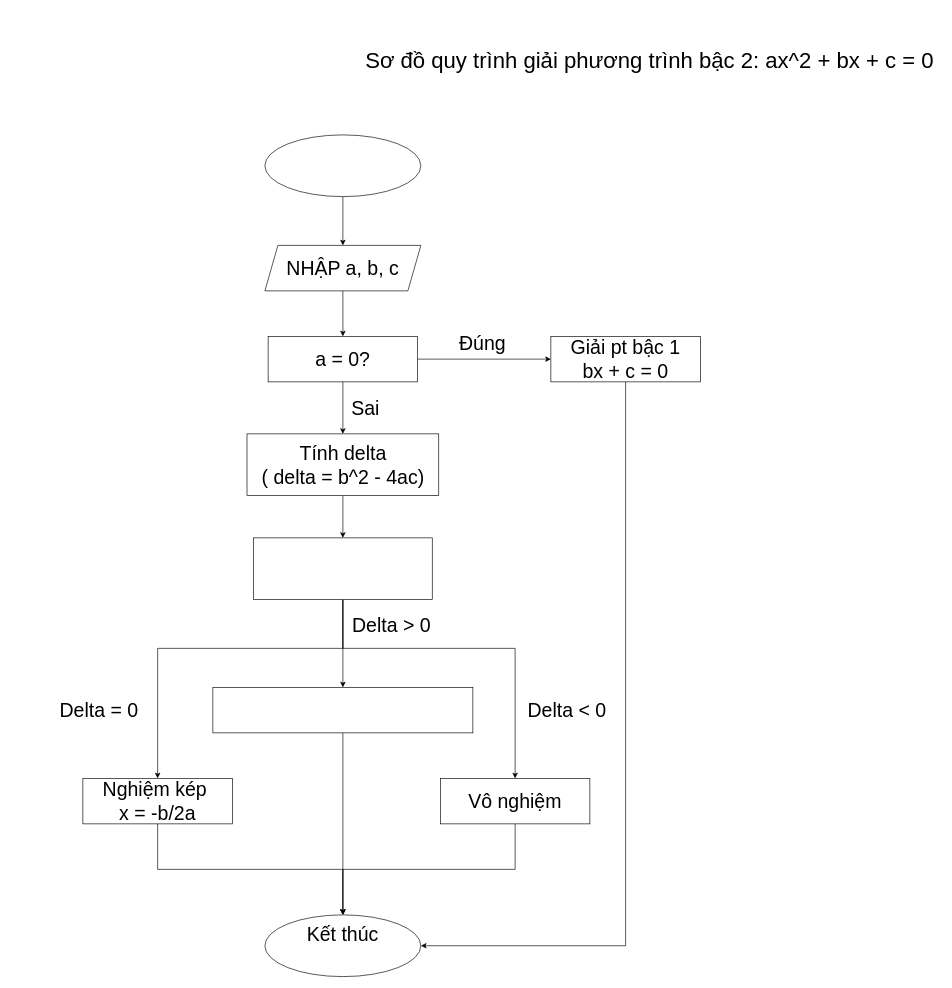
The diagram is 952 pixels wide and 988 high, and some of its shapes have lost their labels. Each missing label, with the box of its shape:
Bắt đầu: (264, 134, 421, 197)
Hai nghiệm phân x = (-b +/- căn delta)/2a: (212, 687, 473, 733)
So sánh delta với 0: (253, 537, 432, 600)
